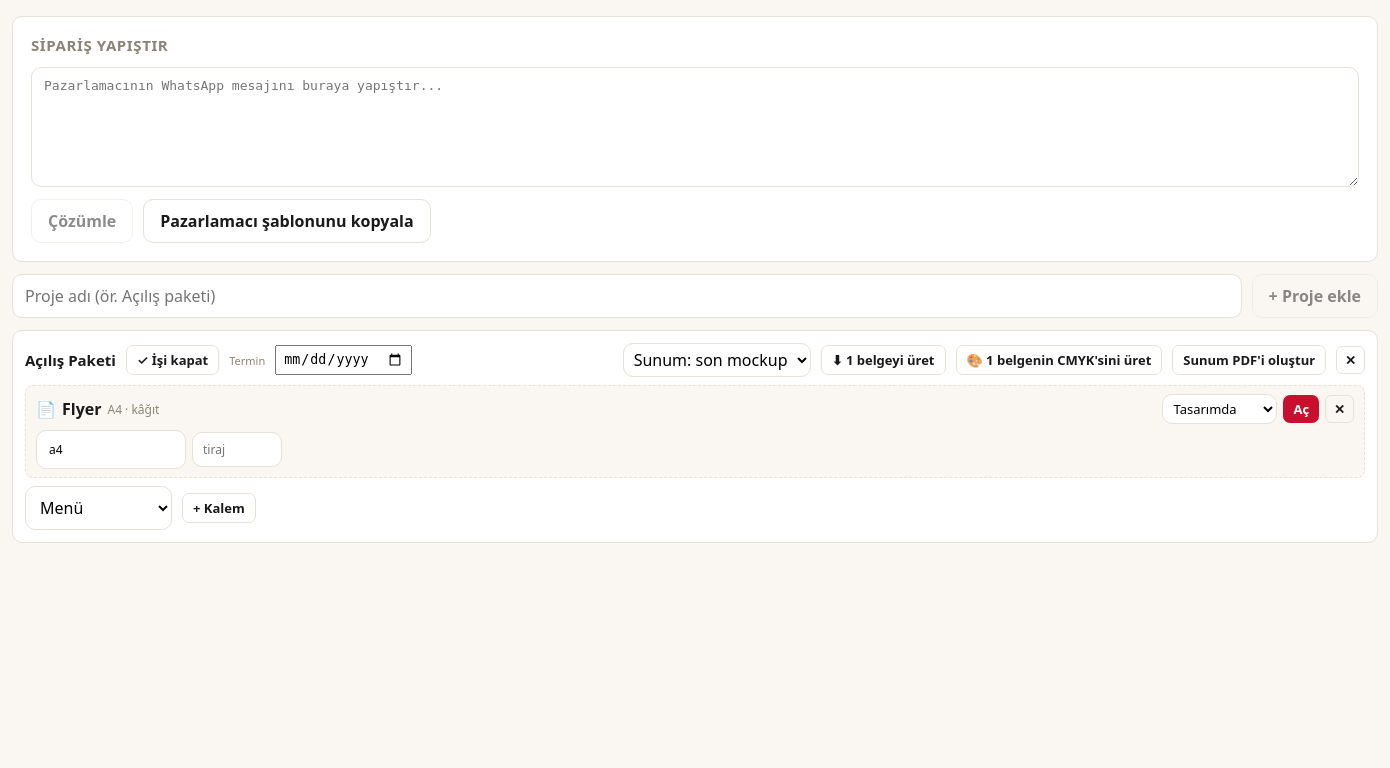
Test case: toplu CMYK › BASKI YOLUNDAKİ belgeler için CMYK üretilir
Click the button "🎨 1 belgenin CMYK'sini üret". click: click(1059, 360)
box: [956, 345, 1162, 375]
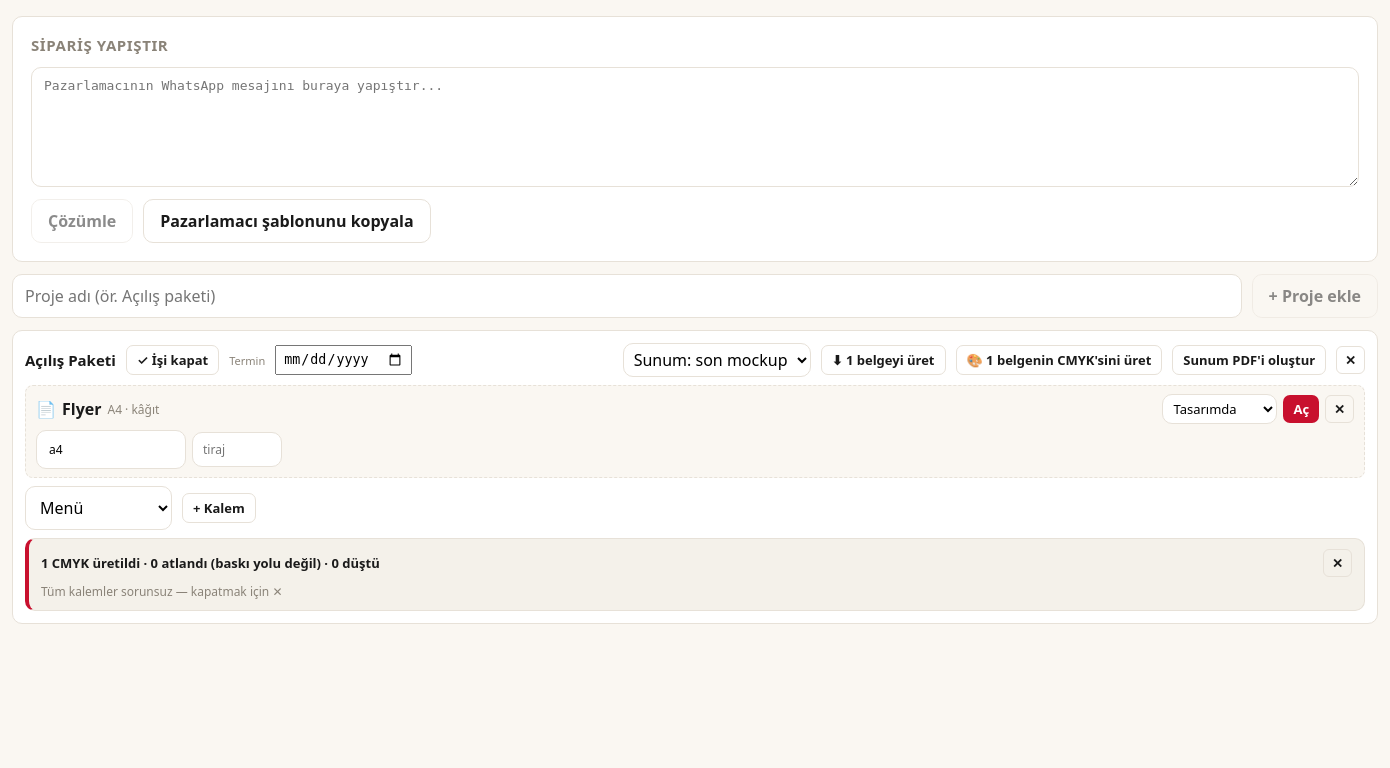
Now the text "1 CMYK üretildi · 0 atlandı (baskı yolu değil) · 0 düştü" is shown, box [41, 554, 380, 572]
